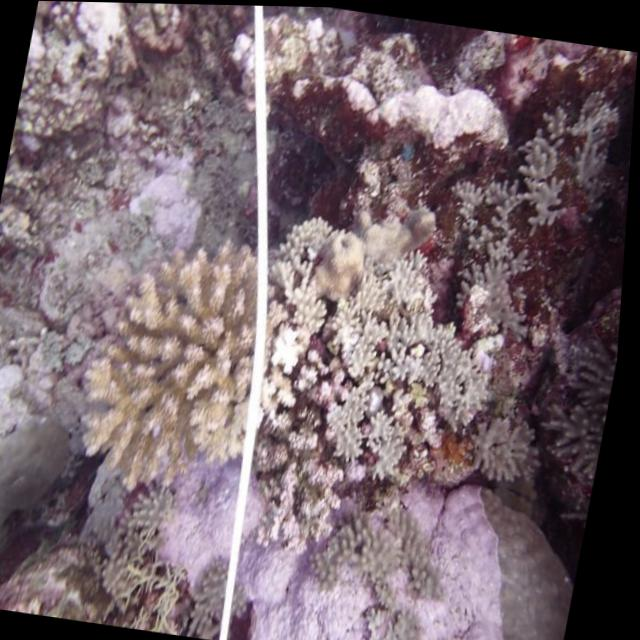Bleached Coral: (236, 209, 587, 500), (153, 441, 599, 640), (513, 76, 636, 239), (106, 122, 249, 260), (0, 304, 109, 453), (353, 72, 510, 155), (27, 1, 138, 85)
Healthy Coral: (105, 240, 256, 471)
